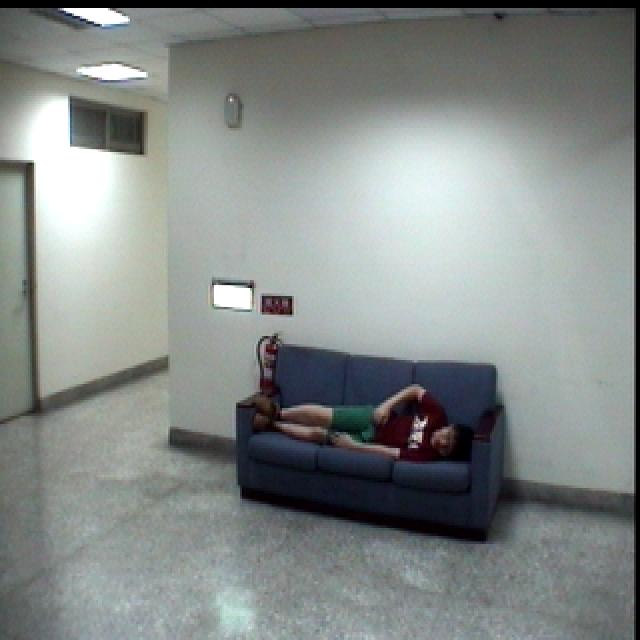lie: (239, 374, 481, 469)
